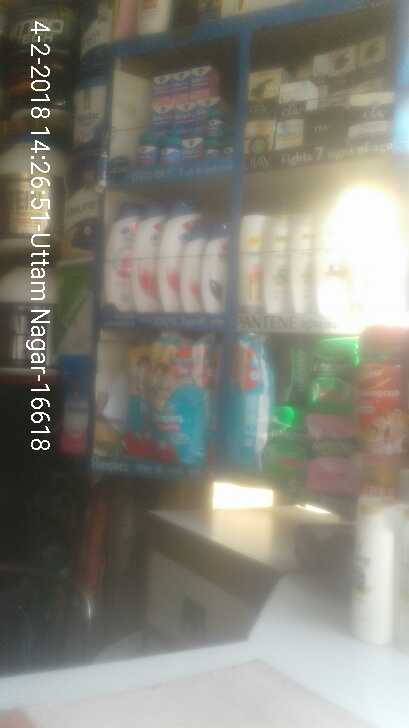vicks: (138, 57, 225, 162)
